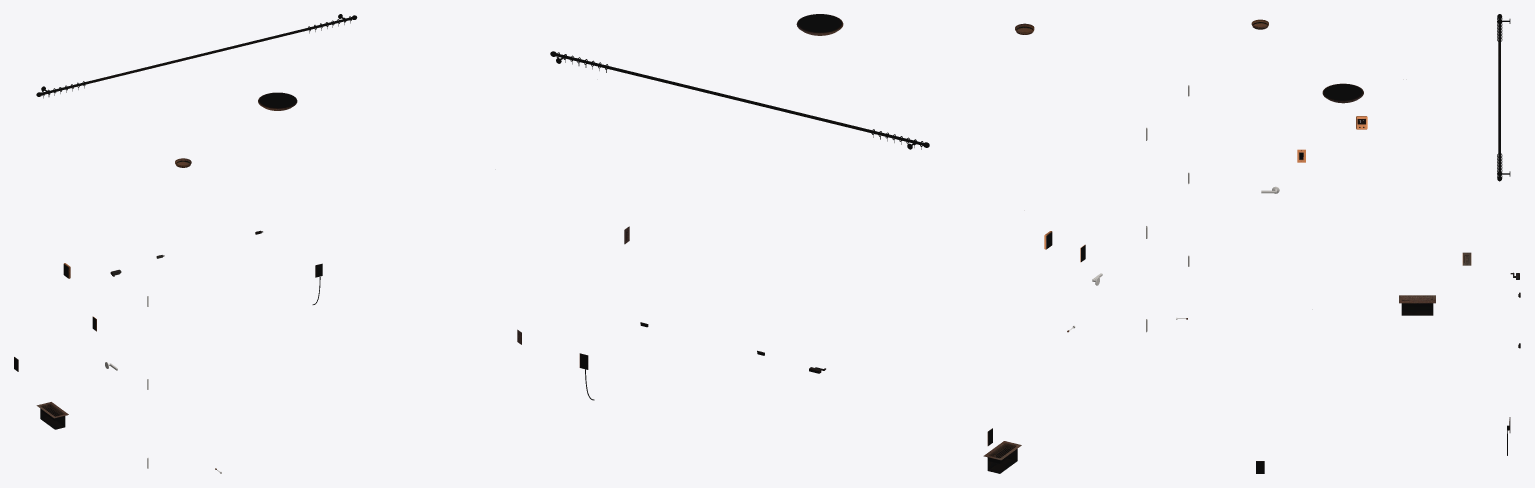
Rendered from fixtures.glb.
The picture shows the model from 3 angles, left to right: view 1: azimuth 30°, elevation 25°; view 2: azimuth 150°, elevation 25°; view 3: azimuth 270°, elevation 25°; orthographic projection. The views are drawn at different scales.
Visible parts, largest first — view 1: NEW_roomshell_root__mesh, fixtures__mesh; view 2: NEW_roomshell_root__mesh, fixtures__mesh; view 3: NEW_roomshell_root__mesh, fixtures__mesh.
Boxes of the visible parts, x1=… form: NEW_roomshell_root__mesh: x1=14, y1=92, x2=521, y2=473; fixtures__mesh: x1=36, y1=14, x2=357, y2=98; NEW_roomshell_root__mesh: x1=579, y1=14, x2=1147, y2=473; fixtures__mesh: x1=550, y1=51, x2=929, y2=149; NEW_roomshell_root__mesh: x1=1176, y1=19, x2=1520, y2=473; fixtures__mesh: x1=1497, y1=14, x2=1510, y2=181.
Bounding box in the file's own units: 4 × 2.84 × 2.78.
4 materials, 4 textured.
